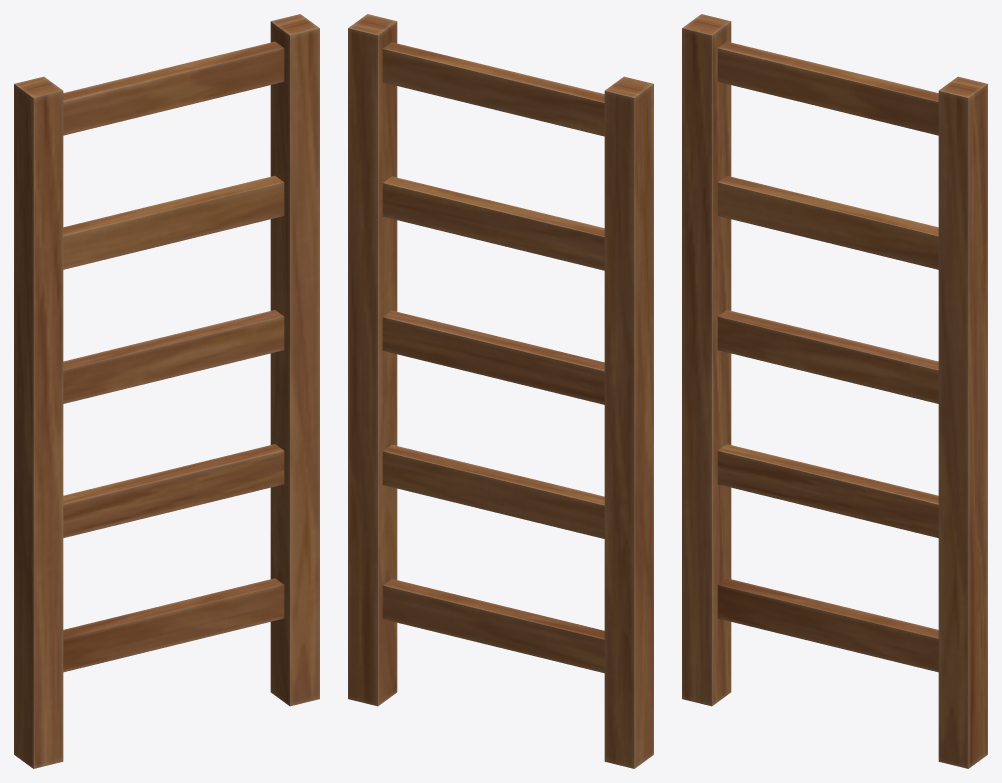
The model's file is sb_obj_indoor042_Ladder.fbx.
3 renders of one model, left to right at view 1: azimuth 30°, elevation 25°; view 2: azimuth 150°, elevation 25°; view 3: azimuth 330°, elevation 25°, orthographic.
Parts seen in each view (by area): view 1: 立方体; view 2: 立方体; view 3: 立方体.
Part boxes in pixels (x1,y1,x2,y2): 立方体: (14, 14, 319, 768); 立方体: (348, 14, 653, 768); 立方体: (682, 14, 987, 768).
Bounding box in the file's own units: 0.8935 × 2 × 0.105.
